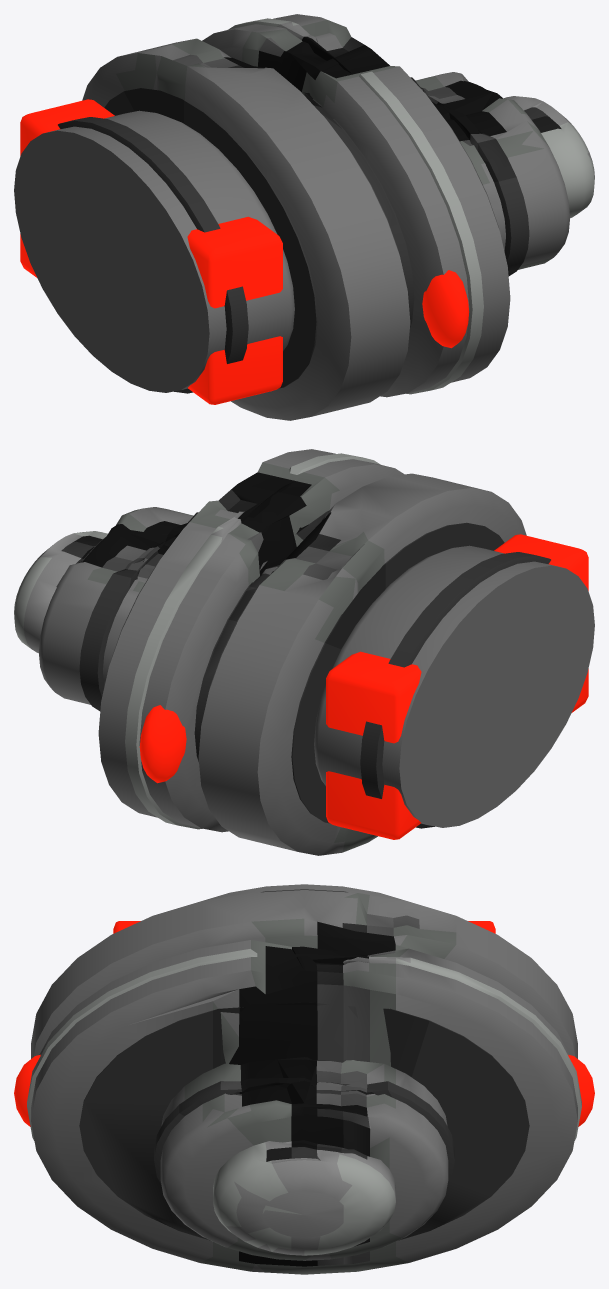
Rendered from station_end_right_damaged.glb.
The picture shows the model from 3 angles, top to bottom: view 1: azimuth 30°, elevation 25°; view 2: azimuth 150°, elevation 25°; view 3: azimuth 270°, elevation 25°; orthographic projection.
Parts seen in each view (by area): view 1: collar, flange1, flange0, tube, clamp-1, flange_face1, flange_band, collar_ring, tube_ring, knob, lamp-1, clamp1 (+2 smaller); view 2: collar, flange1, flange0, tube, clamp1, flange_face1, flange_band, collar_ring, knob, tube_ring, lamp1, clamp-1 (+2 smaller); view 3: flange0, flange_face0, tube, flange1, knob, flange_band, tube_ring, collar, lamp1, lamp-1.
Part boxes in pixels (<box>): collar: <box>14,110,294,392</box>; flange1: <box>82,38,410,420</box>; flange0: <box>202,14,510,397</box>; tube: <box>415,72,569,269</box>; clamp-1: <box>187,216,282,404</box>; flange_face1: <box>104,88,317,388</box>; flange_band: <box>228,18,483,394</box>; collar_ring: <box>58,117,248,393</box>; tube_ring: <box>410,77,529,276</box>; knob: <box>503,96,594,217</box>; lamp-1: <box>422,270,469,348</box>; clamp1: <box>20,99,114,277</box>; collar: <box>314,545,594,827</box>; flange1: <box>198,473,526,855</box>; flange0: <box>98,449,404,832</box>; tube: <box>39,507,193,704</box>; clamp1: <box>326,651,421,839</box>; flange_face1: <box>291,522,504,823</box>; flange_band: <box>125,453,380,829</box>; collar_ring: <box>360,552,550,828</box>; knob: <box>14,531,107,652</box>; tube_ring: <box>79,512,198,711</box>; lamp1: <box>139,705,186,783</box>; clamp-1: <box>494,534,588,712</box>; flange0: <box>31,940,577,1274</box>; flange_face0: <box>79,1002,529,1240</box>; tube: <box>160,1057,448,1260</box>; flange1: <box>31,890,577,1058</box>; knob: <box>213,1140,395,1255</box>; flange_band: <box>27,949,581,1140</box>; tube_ring: <box>154,1078,454,1184</box>; collar: <box>201,884,407,901</box>; lamp1: <box>568,1054,594,1126</box>; lamp-1: <box>14,1054,40,1126</box>.
Size of the model in its own units: 20 by 13.05 by 22.2.
